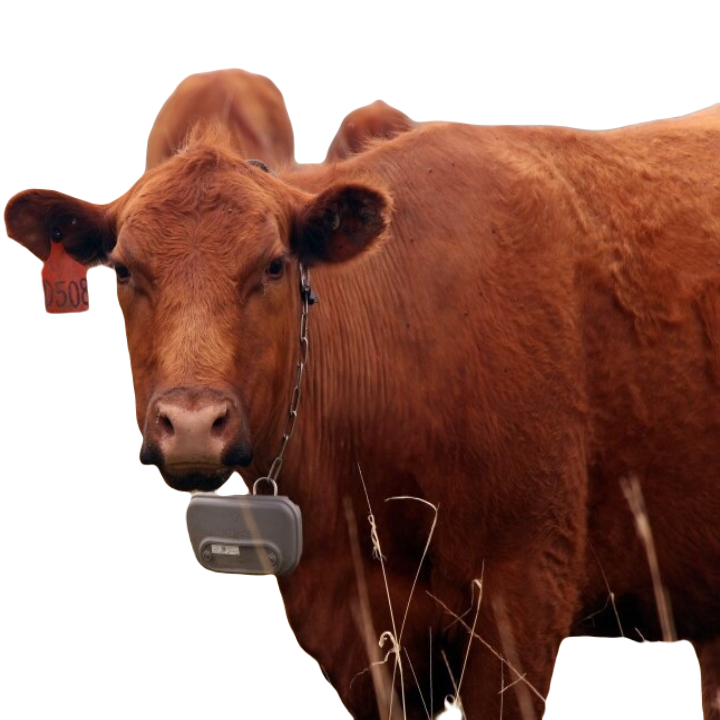Cow: (5, 101, 719, 719)
